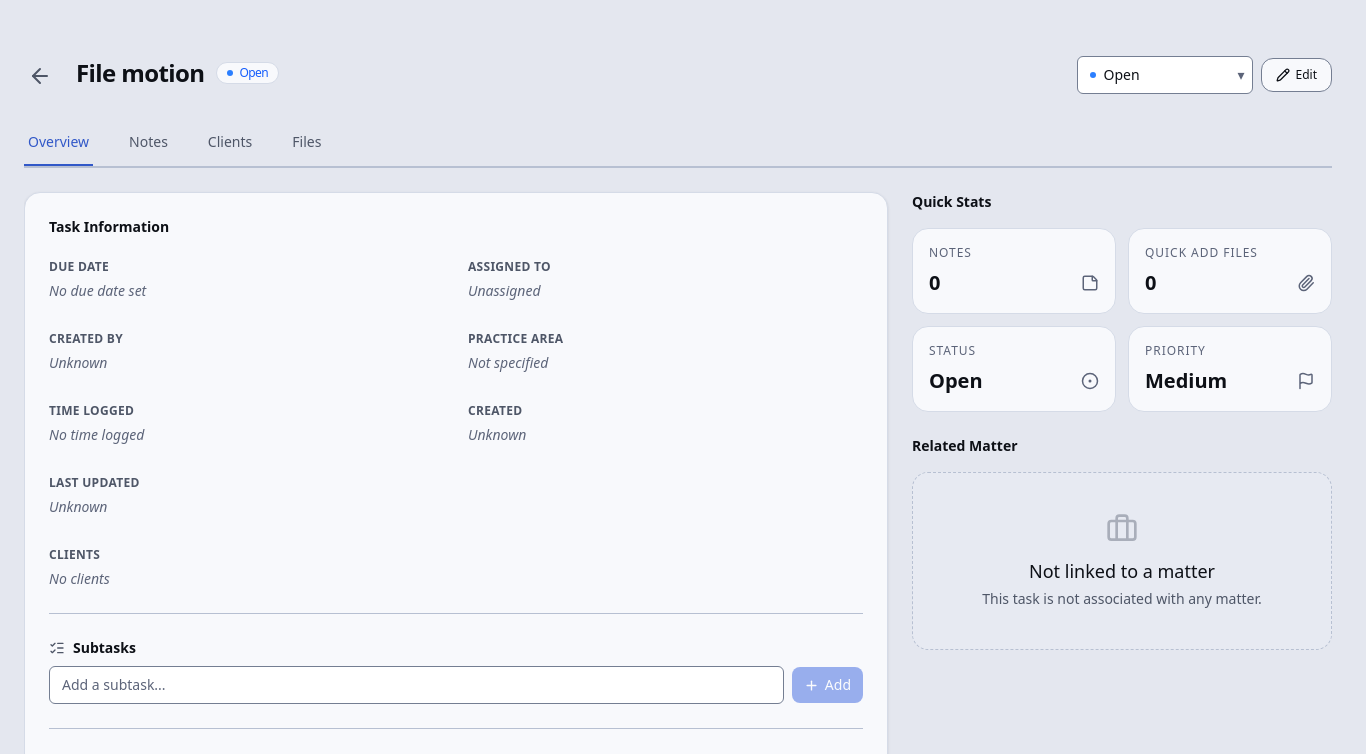
requires client management for task client controls (grant: true)
Expected: the text "File motion" is shown, x1=76 y1=56 x2=204 y2=89
Click the button "Clients": (230,143) x1=204 y1=120 x2=256 y2=166
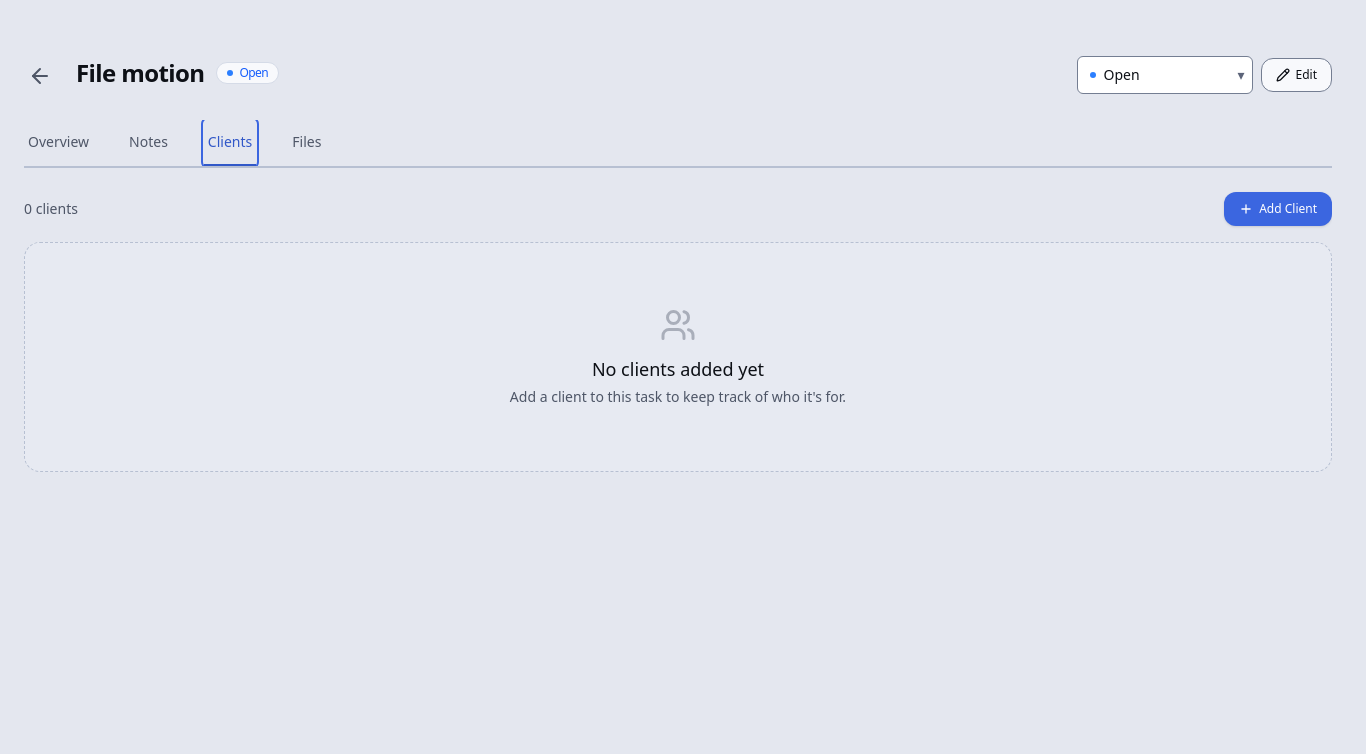
Result: the button "Add Client" is shown at x1=1224 y1=192 x2=1332 y2=226
